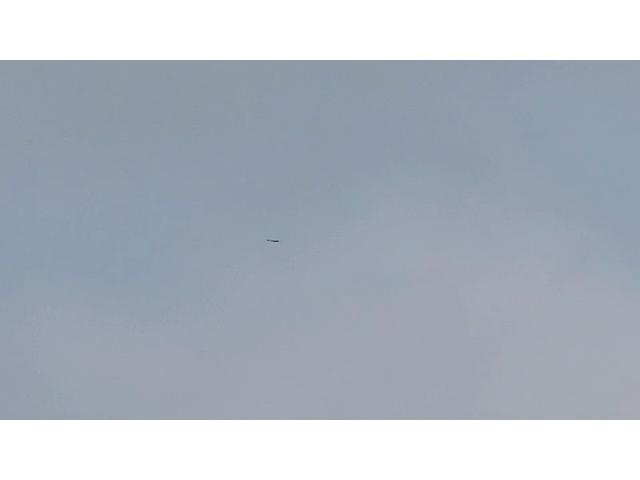Anti-Drone: (265, 236, 281, 244)
